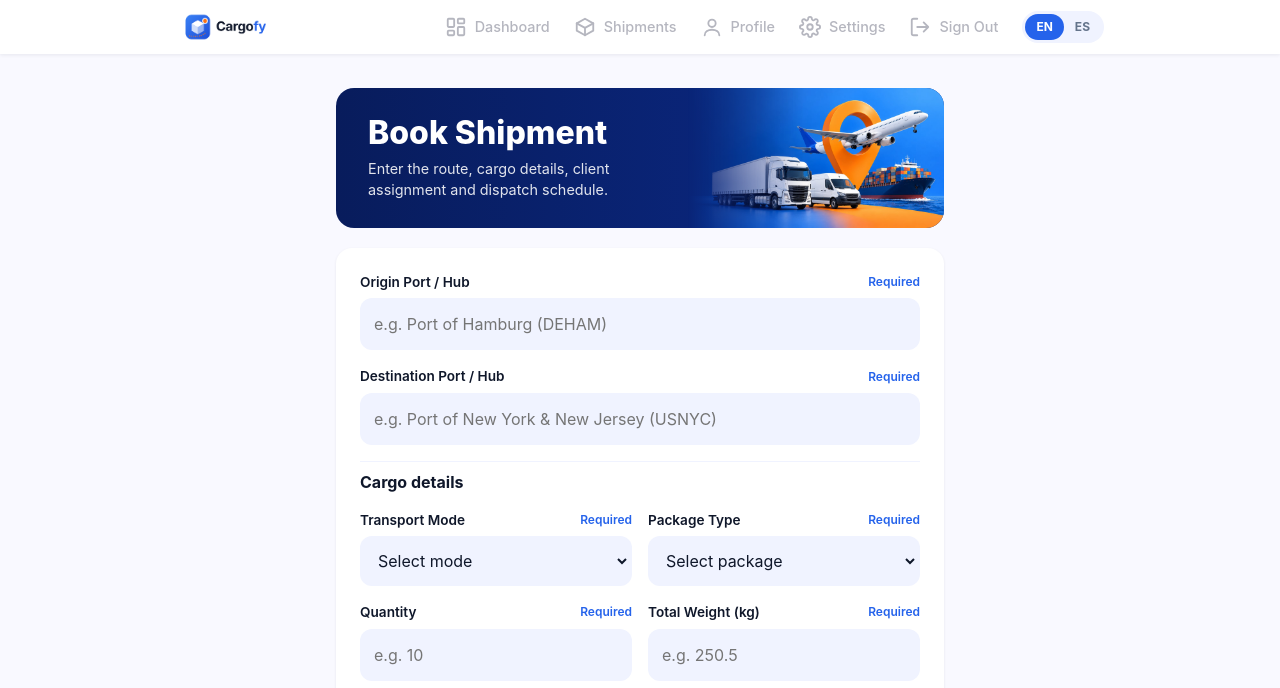
Test: NewShipmentView › rejects an invalid HS code without sending the request
Type "Vigo, ES" into the field with id "origin". click: (640, 324)
box: [360,298,920,350]
Type "Oslo, NO" into the field with id "destination". click: (640, 419)
box: [360,393,920,445]
Select "🚢 Sea" in the dropdown with id "transportMode". click: (496, 561)
box: [360,536,632,586]
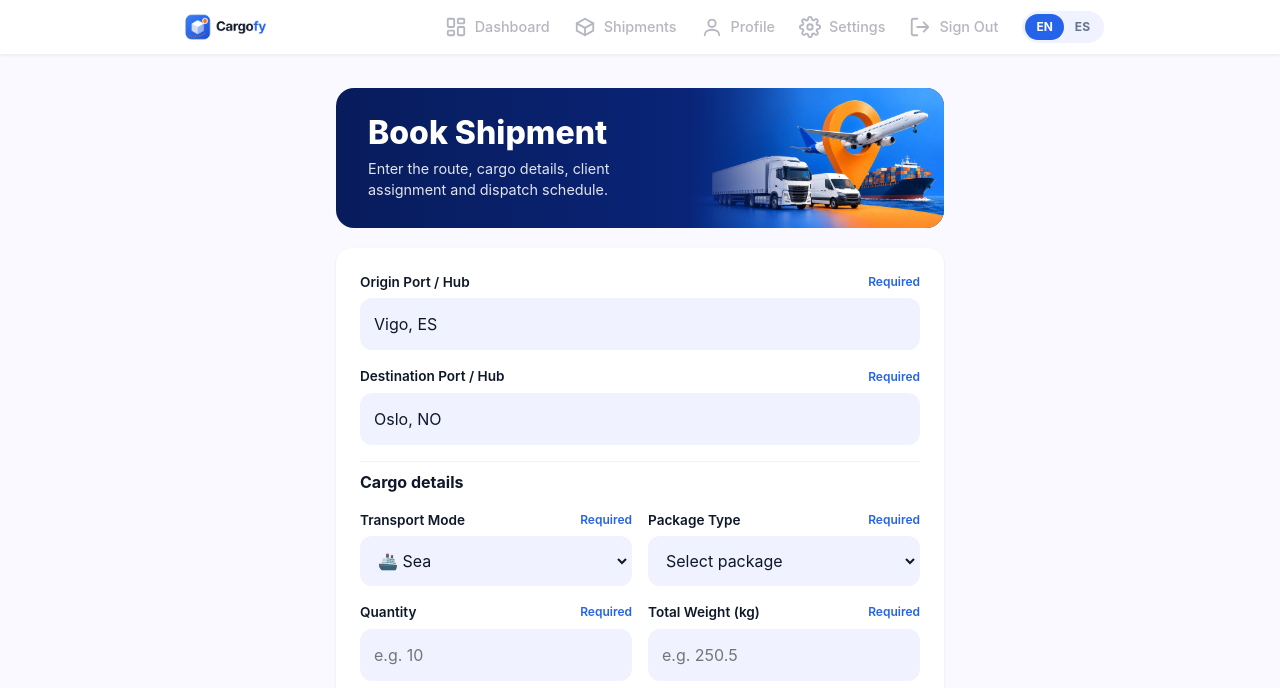
Select "🧰 Box" in the dropdown labelled "Package Type Required". click: (784, 561)
box: [648,536,920,586]
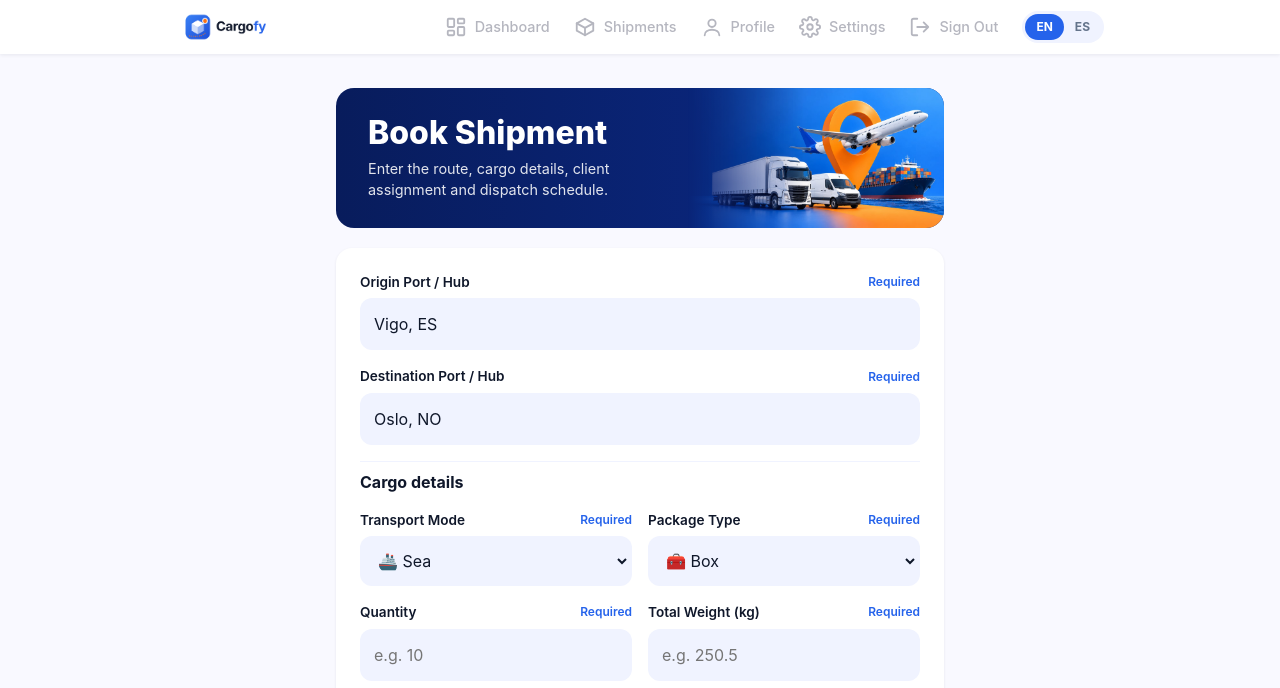
Type "10" into the number field labelled "Quantity Required". click: (496, 655)
box: [360,629,632,681]
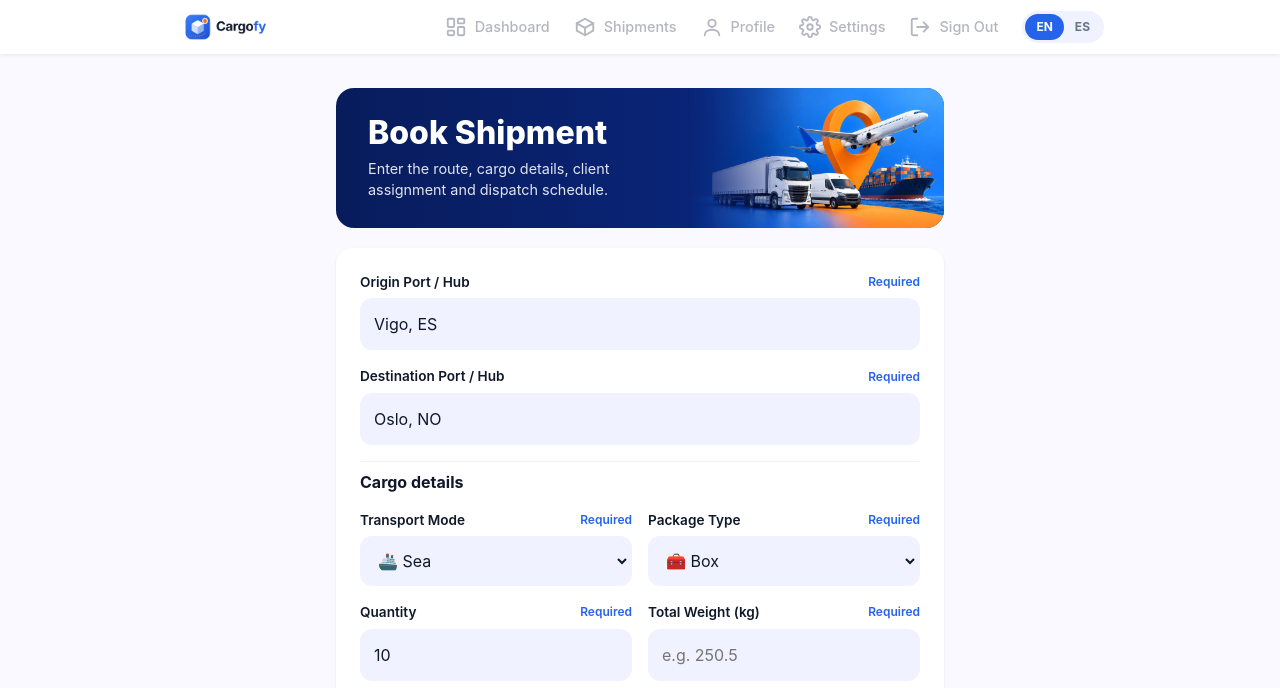
Type "250.5" into the number field with id "weightKg". click: (784, 655)
box: [648,629,920,681]
(page scrolled)
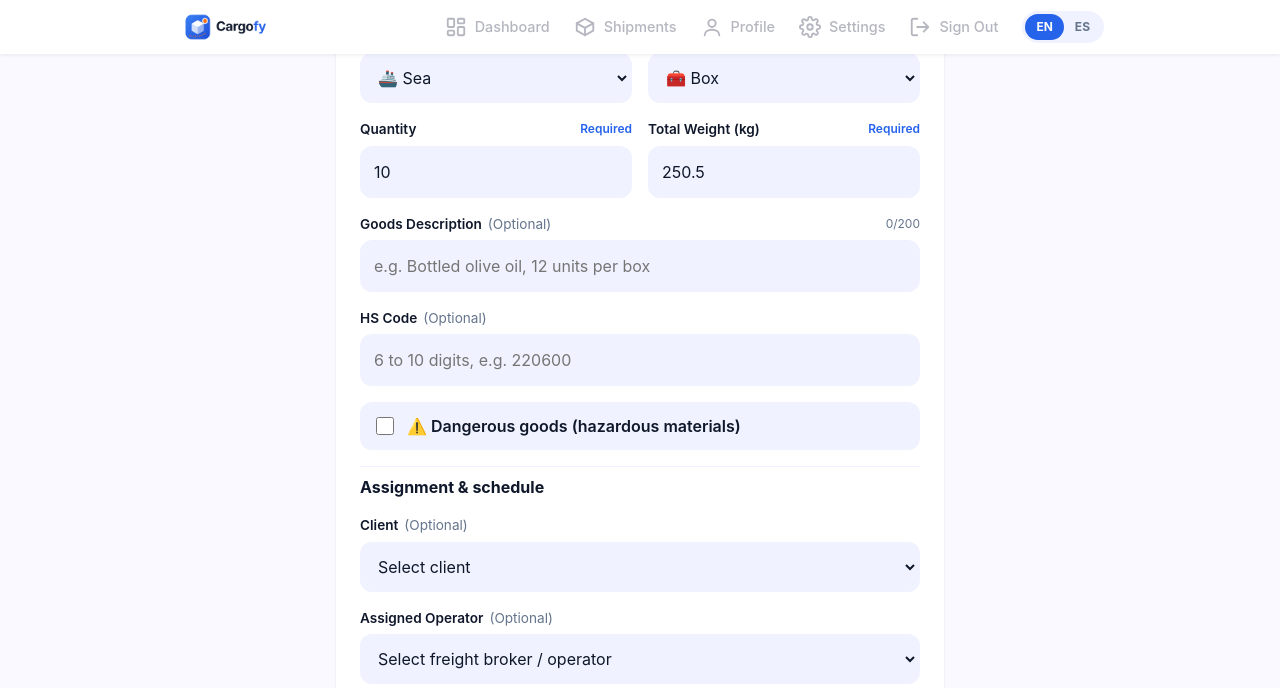
Type "123" into the field with id "hsCode". click: (640, 360)
box: [360,334,920,386]
(page scrolled)
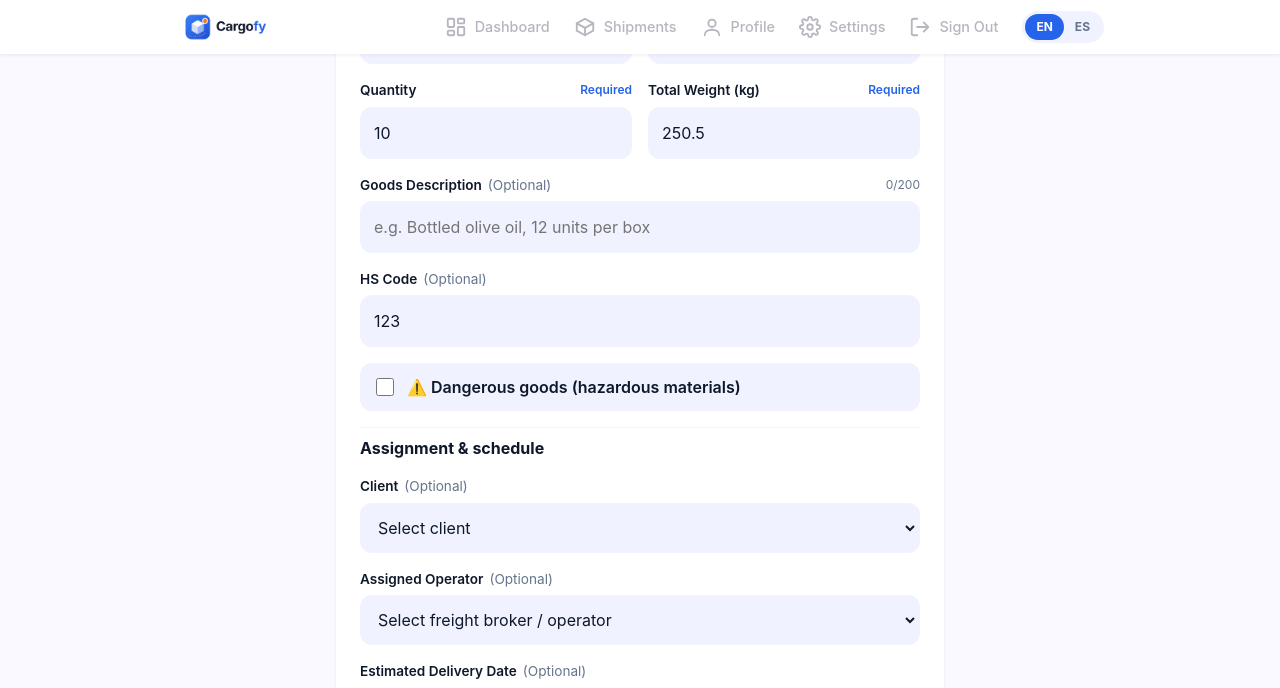
Submit the form
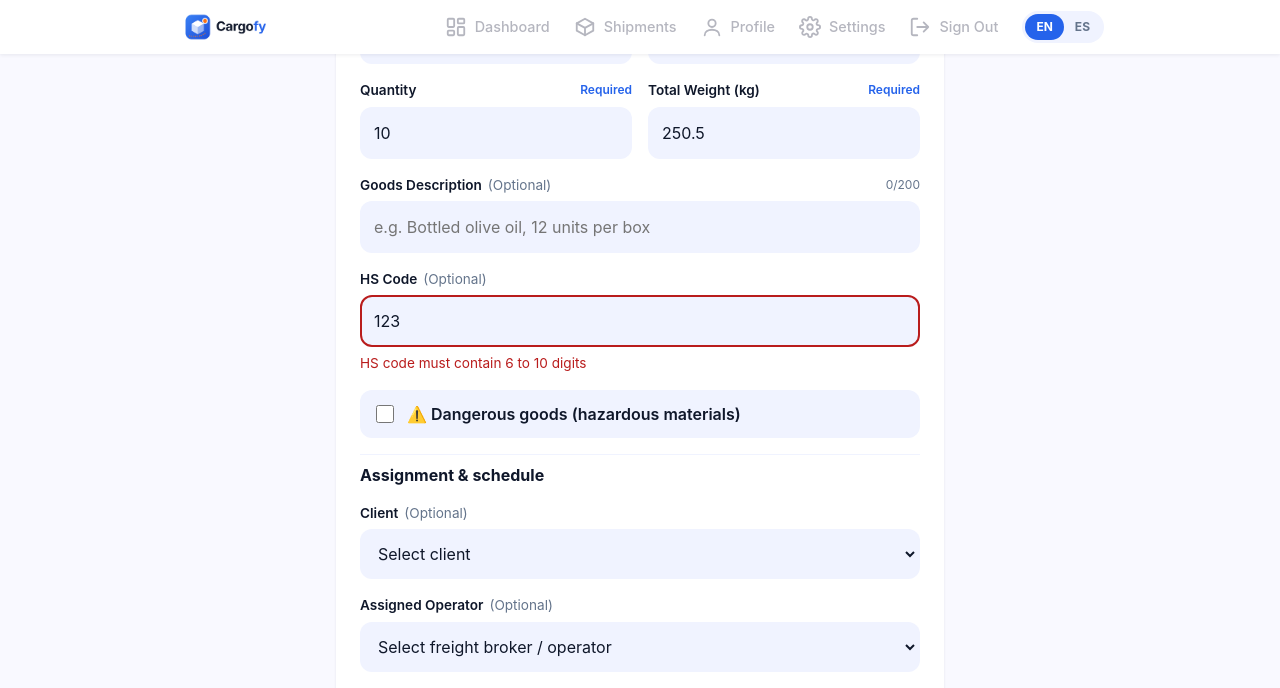
Expected: the text "HS code must contain 6 to 10 digits" is shown, [360,355,586,371]
